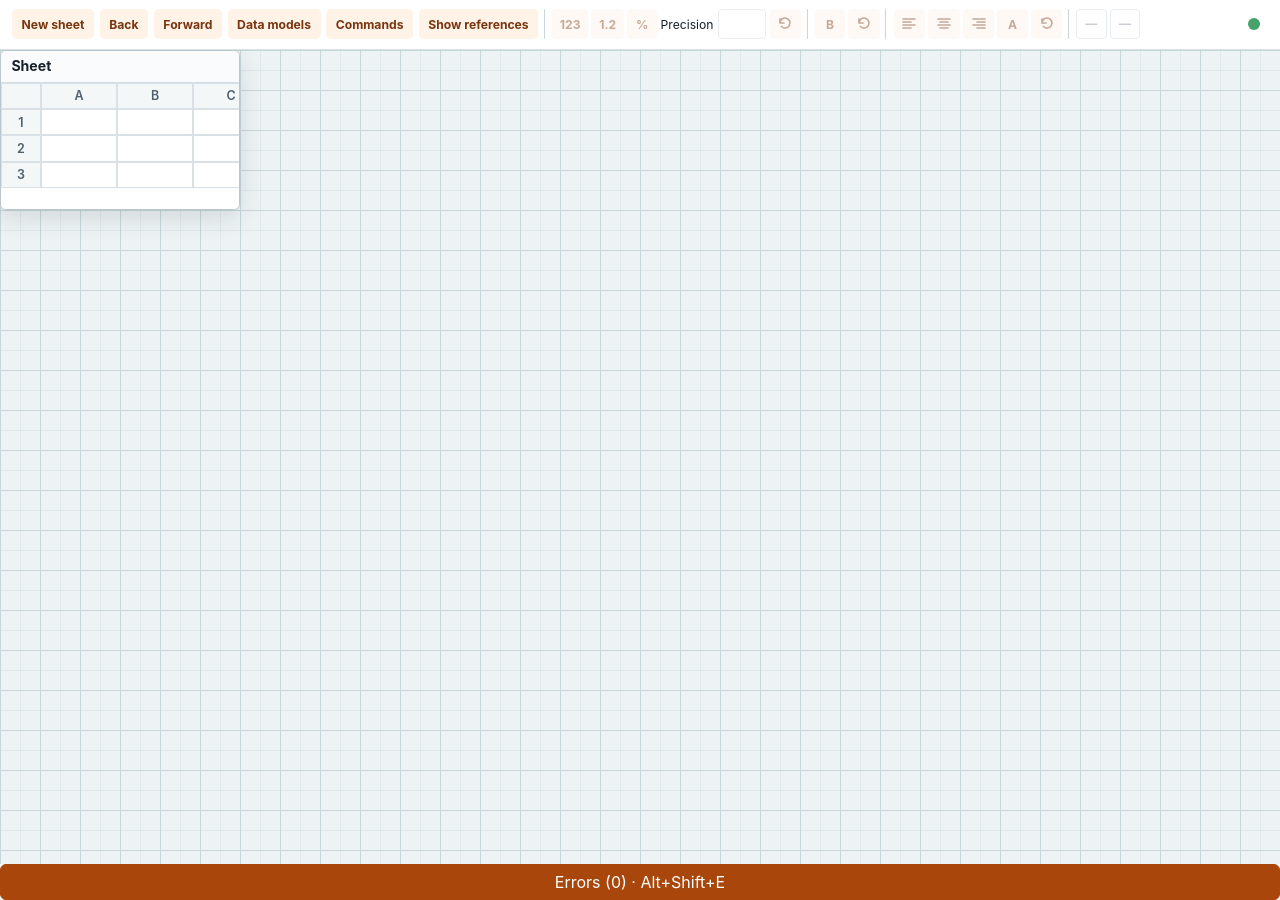
Test: DataModelDialog › retains the ordered draft after the App controller reports persistence failure
Click the button "Data models".
click(274, 24)  # box left=228, top=9, right=320, bottom=40
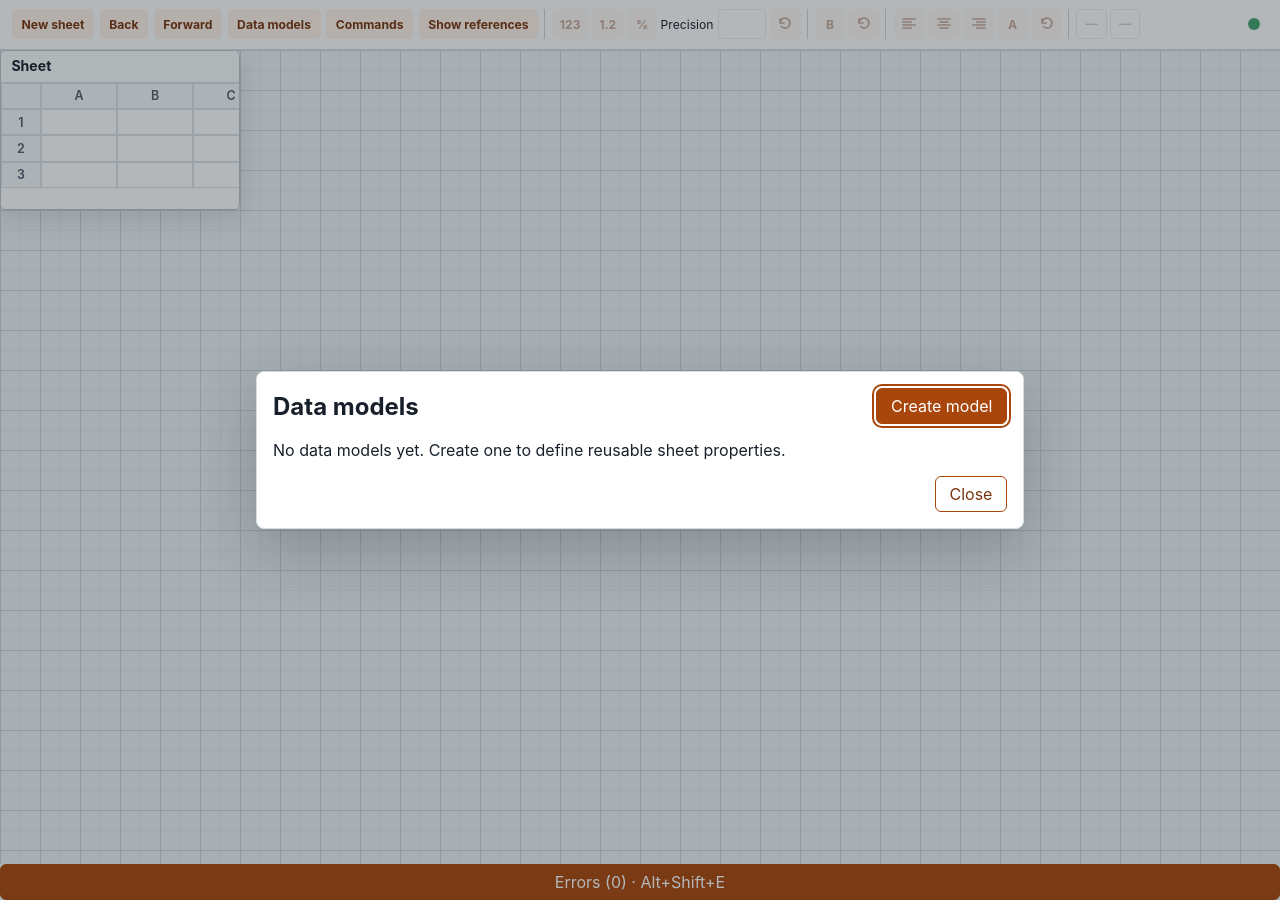
Click the button "Create model".
click(942, 406)  # box left=876, top=388, right=1007, bottom=424
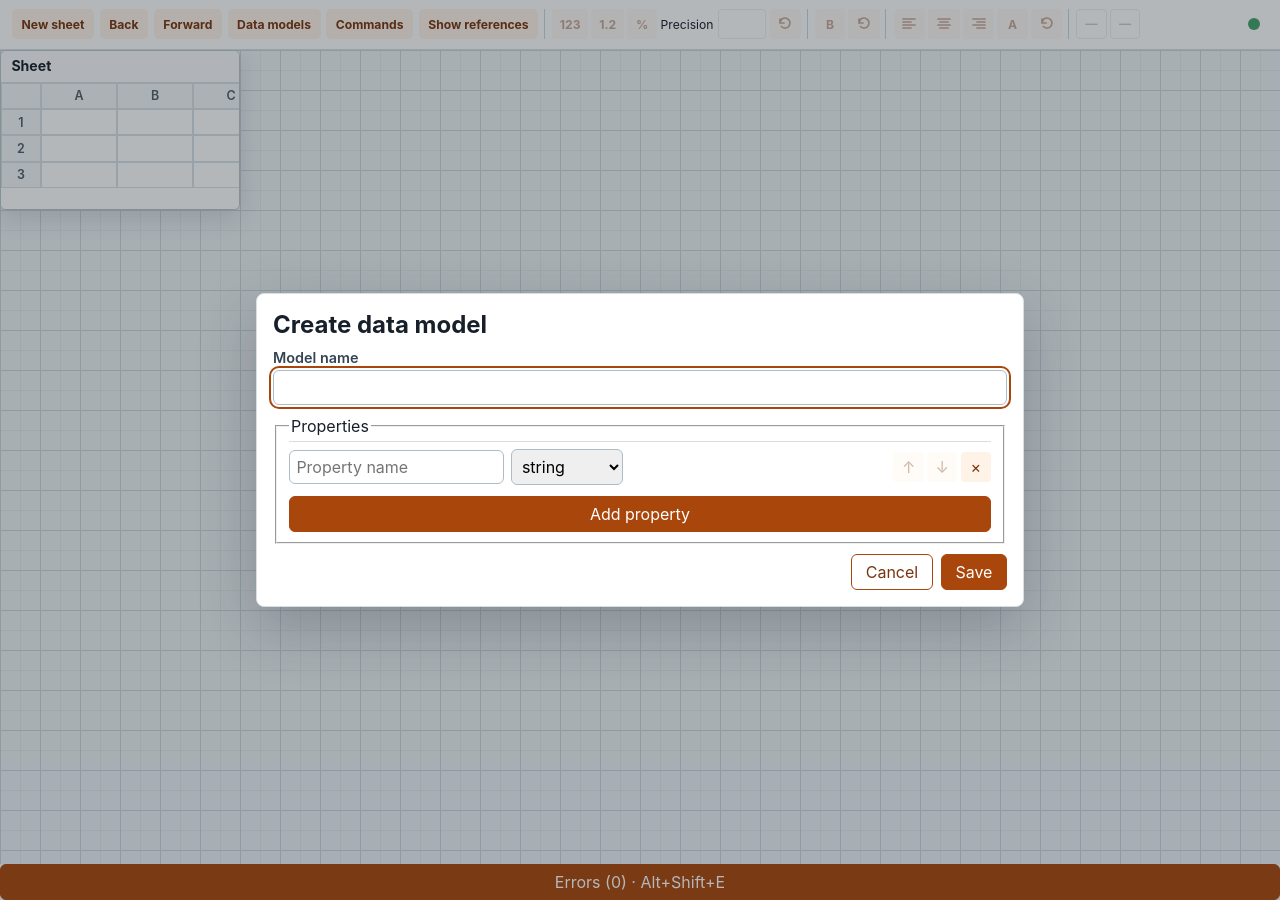
Type "Retry" into the field labelled "Model name".
click(640, 388); type("Retry")  # box left=273, top=370, right=1007, bottom=405
Type "First" into the field named "Property 1 name".
click(397, 467); type("First")  # box left=289, top=450, right=504, bottom=484
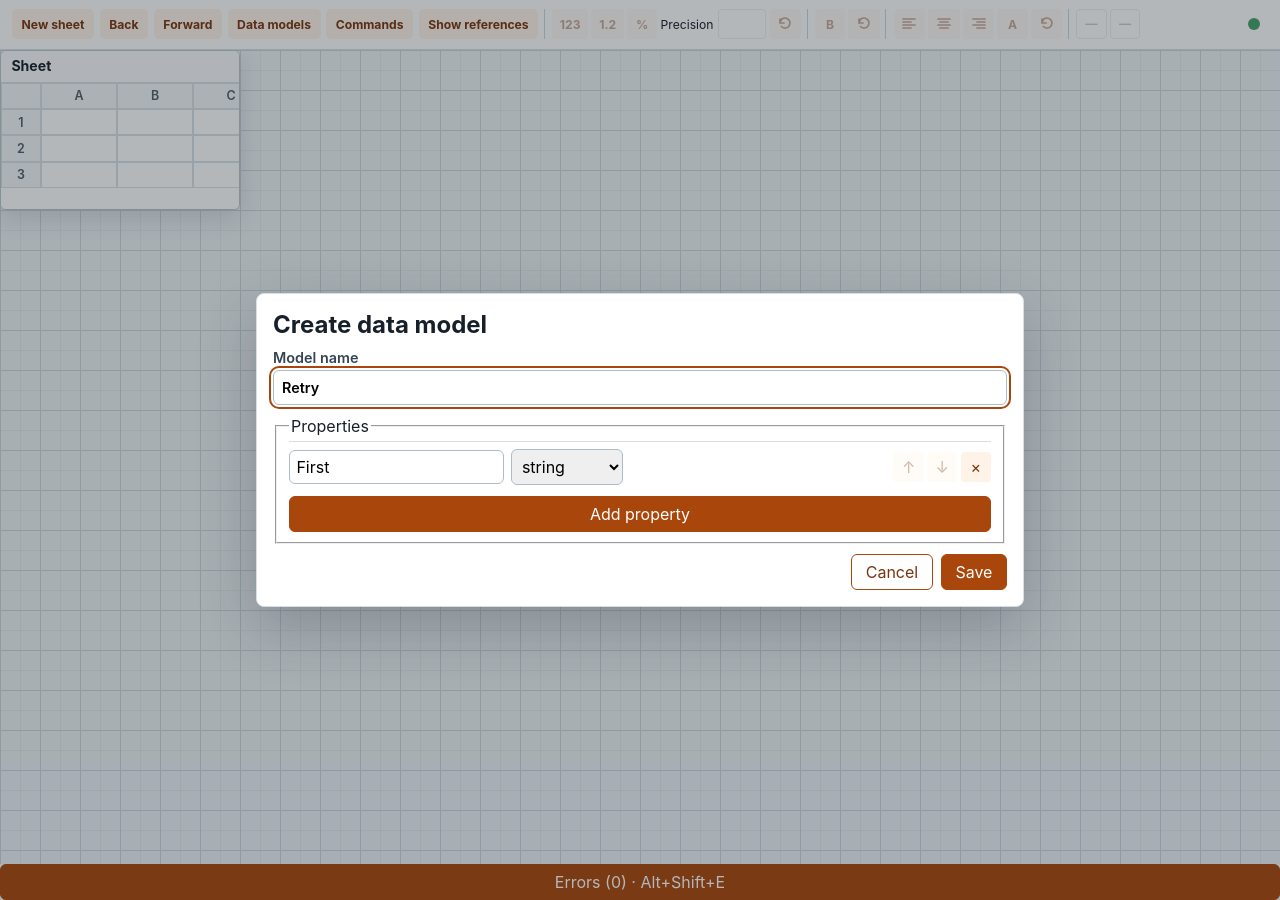
Click the button "Add property".
click(640, 514)  # box left=289, top=496, right=991, bottom=532
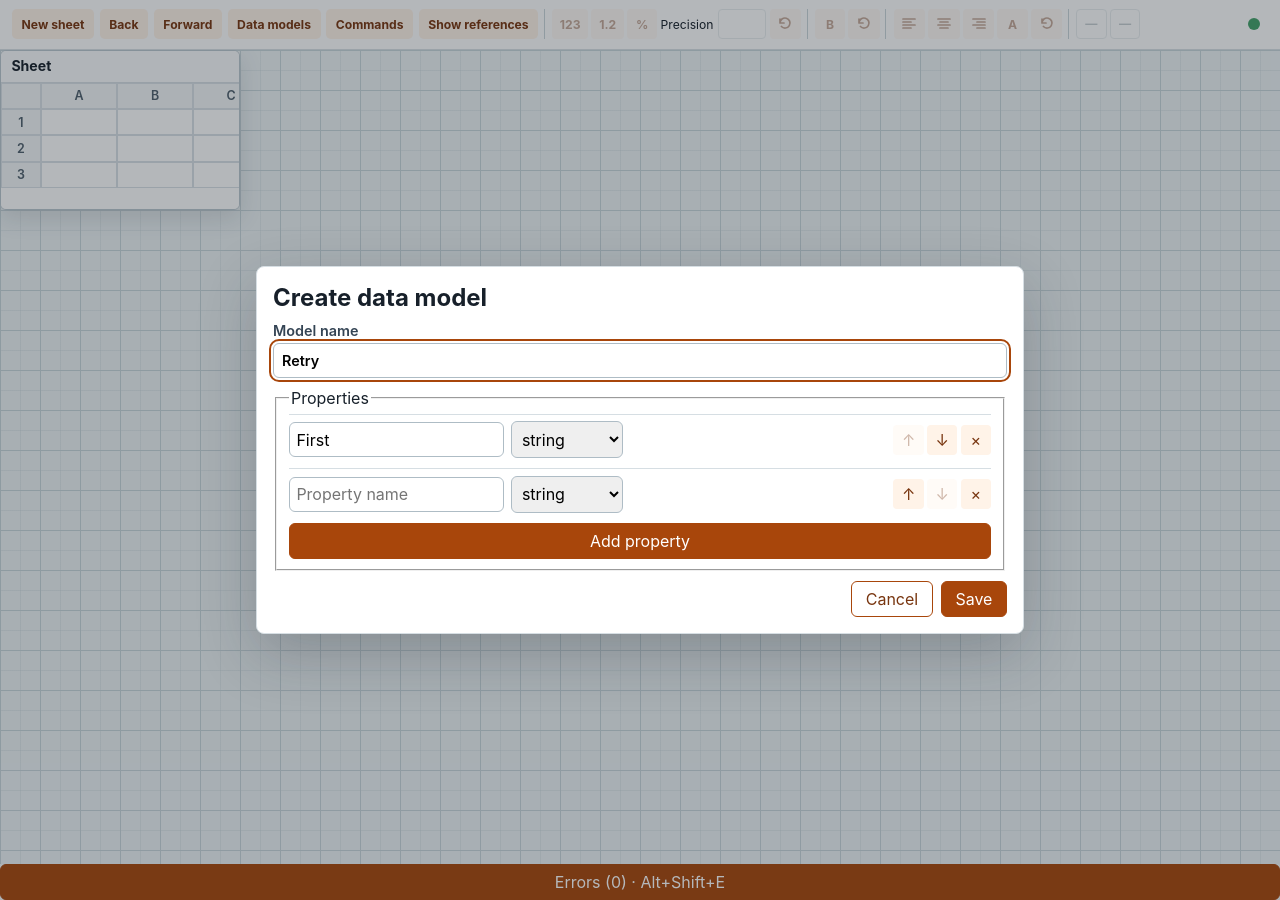
Type "Second" into the field named "Property 2 name".
click(397, 494); type("Second")  # box left=289, top=477, right=504, bottom=512
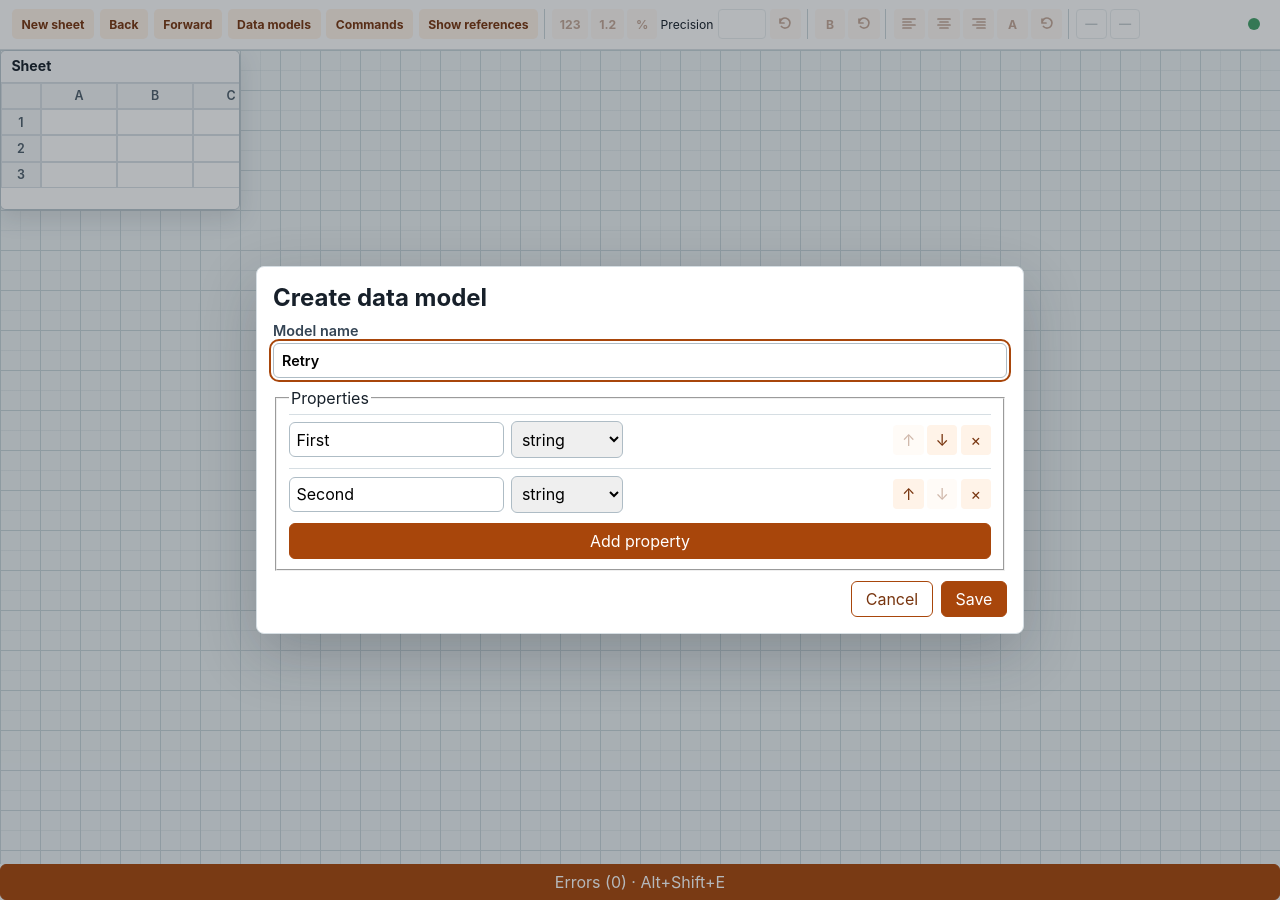
Click the button "Save".
click(974, 599)  # box left=941, top=581, right=1007, bottom=617
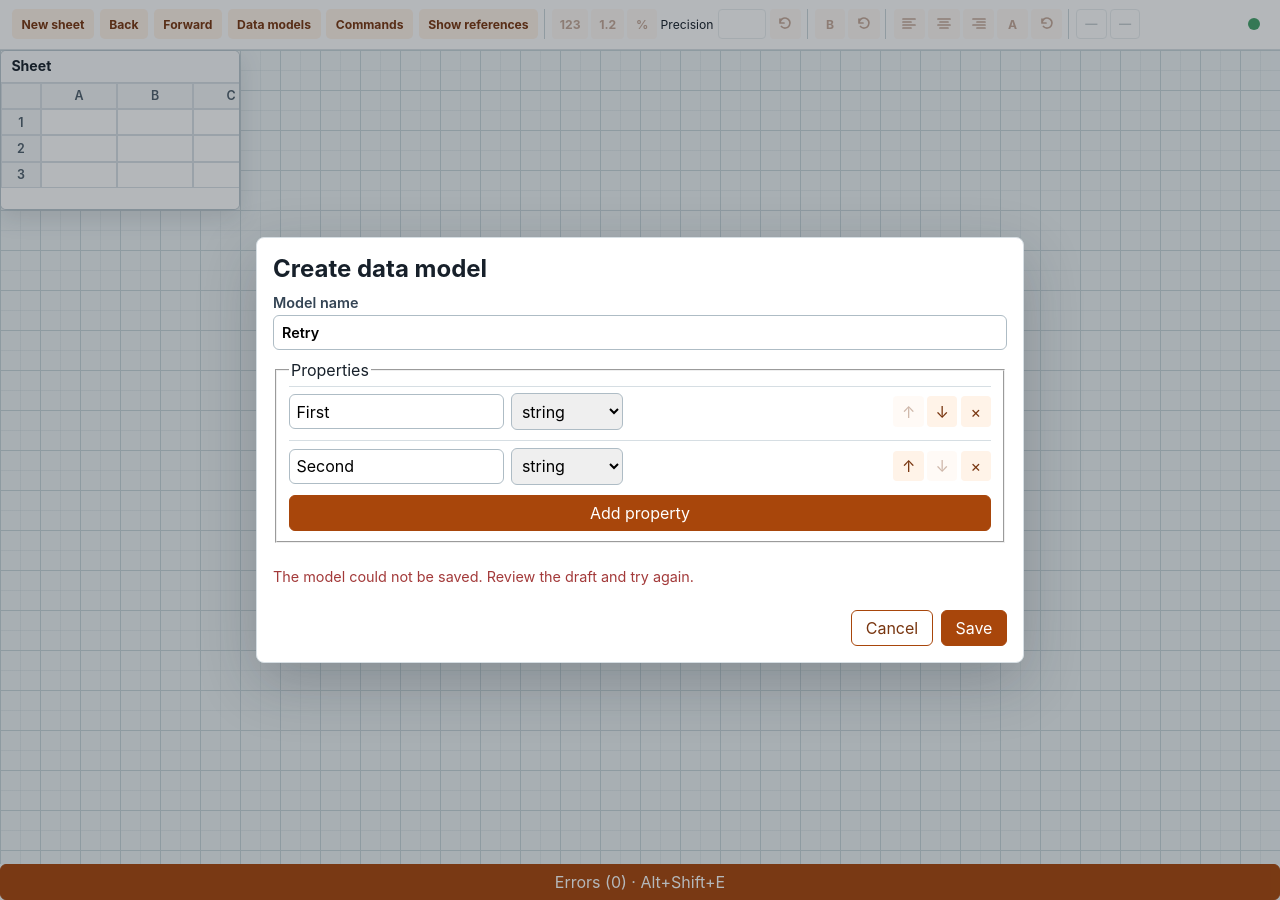
Result: the message shows "Review the draft and try again" at left=273, top=568, right=694, bottom=585
